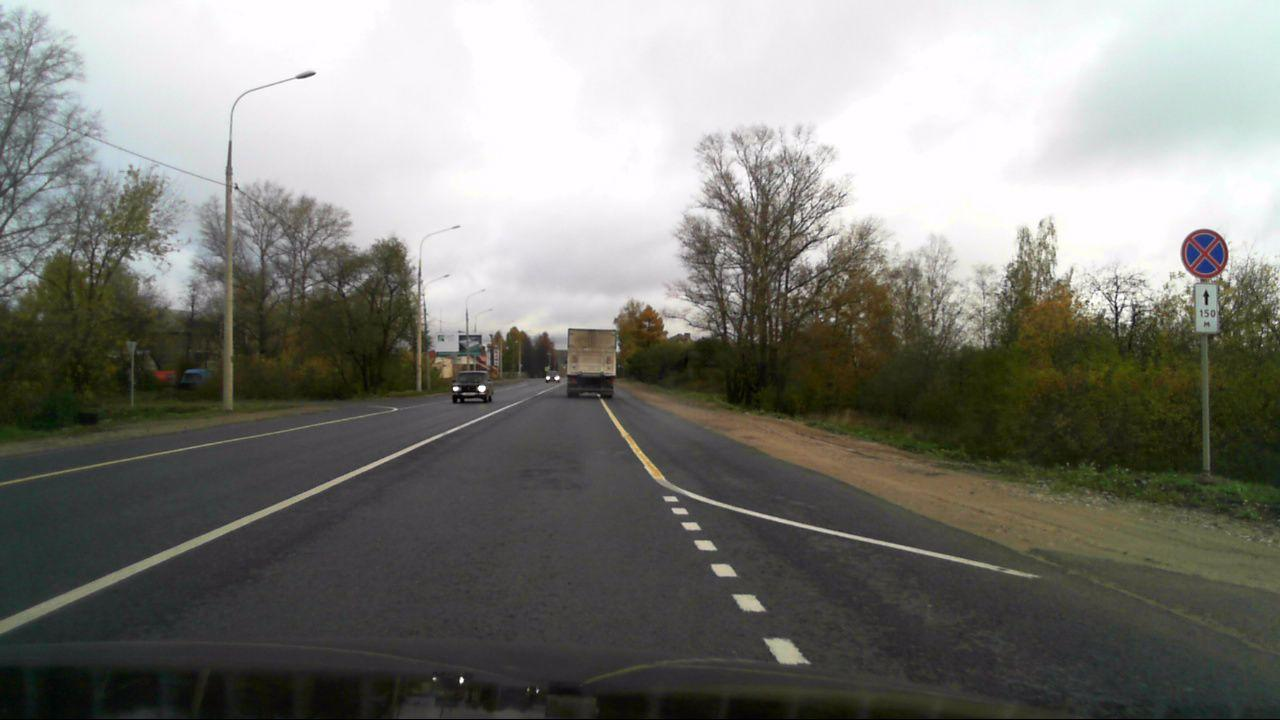3_27: (1178, 225, 1233, 278)
8_2_2: (1193, 285, 1220, 336)
